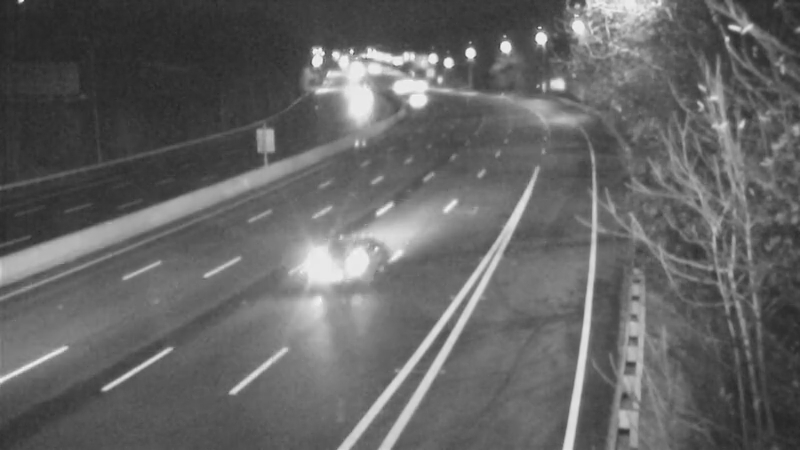vehicle: (300, 226, 380, 306), (394, 60, 444, 110), (391, 71, 441, 121), (332, 78, 382, 128)
